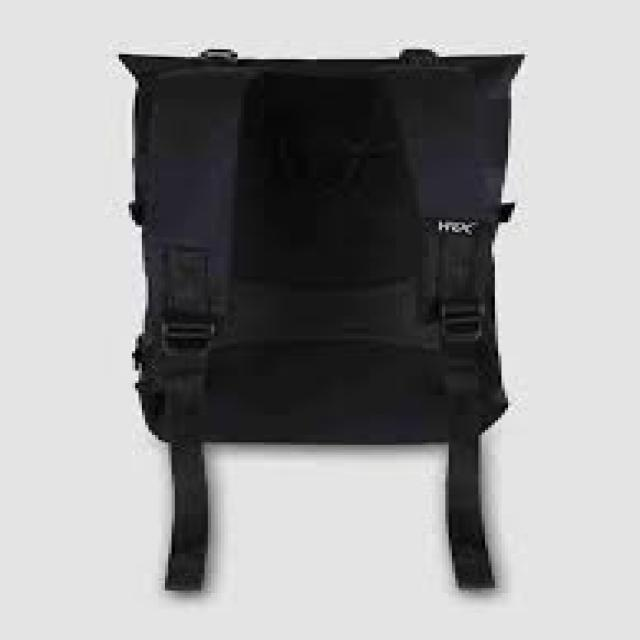backpack: (117, 46, 526, 592)
